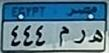4: (10, 23, 21, 48), (35, 24, 46, 47), (23, 24, 33, 47)
haa: (87, 28, 103, 46)
meem: (58, 24, 70, 47)
raa: (72, 28, 87, 46)
